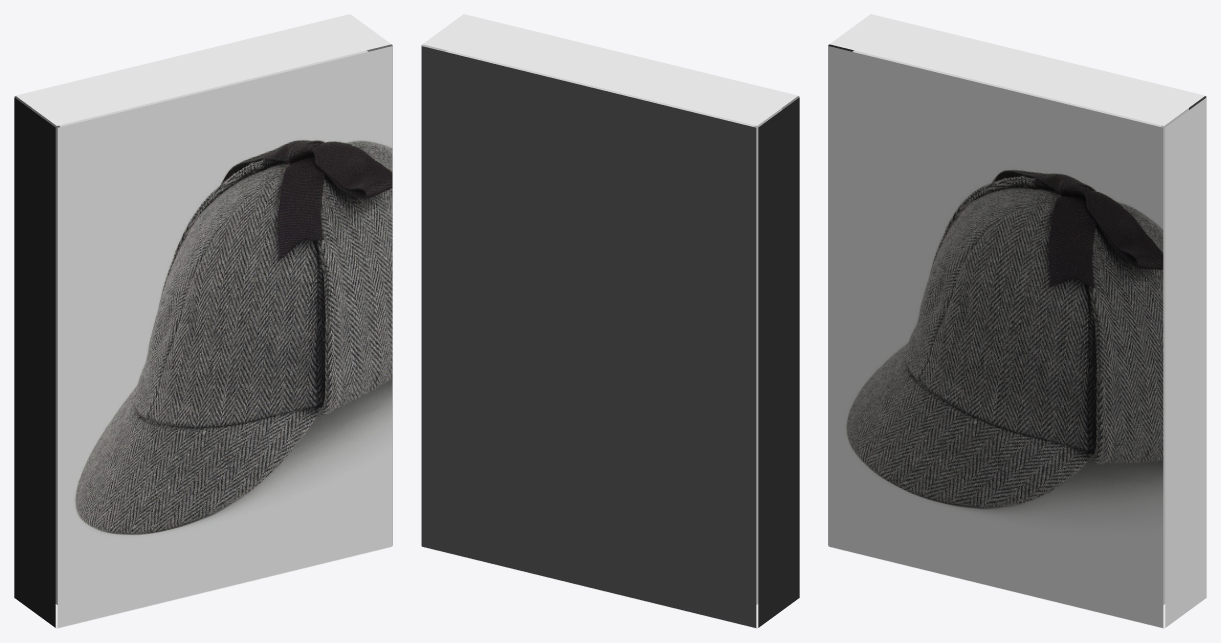
File: livre_sherlock.glb
3 views of the same model, side by side, from view 1: azimuth 30°, elevation 25°; view 2: azimuth 150°, elevation 25°; view 3: azimuth 330°, elevation 25° (orthographic).
Visible parts, largest first — view 1: Livre_Couverture_Avant, Livre_Dos, Tranche_Haut, Livre_Pages, Tranche_Droite; view 2: Livre_Couverture_Arriere, Livre_Dos, Tranche_Haut, Livre_Pages, Tranche_Droite; view 3: Livre_Couverture_Avant, Tranche_Droite, Tranche_Haut, Livre_Pages, Livre_Dos.
Boxes of the visible parts, bbox=[...] form: Livre_Couverture_Avant: bbox=[57, 46, 392, 627]; Livre_Dos: bbox=[14, 97, 55, 627]; Tranche_Haut: bbox=[16, 14, 390, 125]; Livre_Pages: bbox=[32, 50, 368, 604]; Tranche_Droite: bbox=[367, 44, 392, 545]; Livre_Couverture_Arriere: bbox=[421, 46, 756, 627]; Livre_Dos: bbox=[758, 97, 799, 627]; Tranche_Haut: bbox=[423, 14, 797, 125]; Livre_Pages: bbox=[445, 50, 781, 604]; Tranche_Droite: bbox=[421, 44, 446, 545]; Livre_Couverture_Avant: bbox=[828, 46, 1163, 627]; Tranche_Droite: bbox=[1165, 97, 1206, 627]; Tranche_Haut: bbox=[830, 14, 1204, 125]; Livre_Pages: bbox=[852, 50, 1188, 604]; Livre_Dos: bbox=[828, 44, 853, 545].
Size of the model in its own units: 1.41 by 2.01 by 0.31.
Materials: 7 (1 with a texture image).
